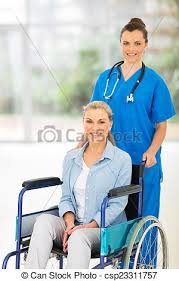wheelchair: (10, 100, 169, 269)
